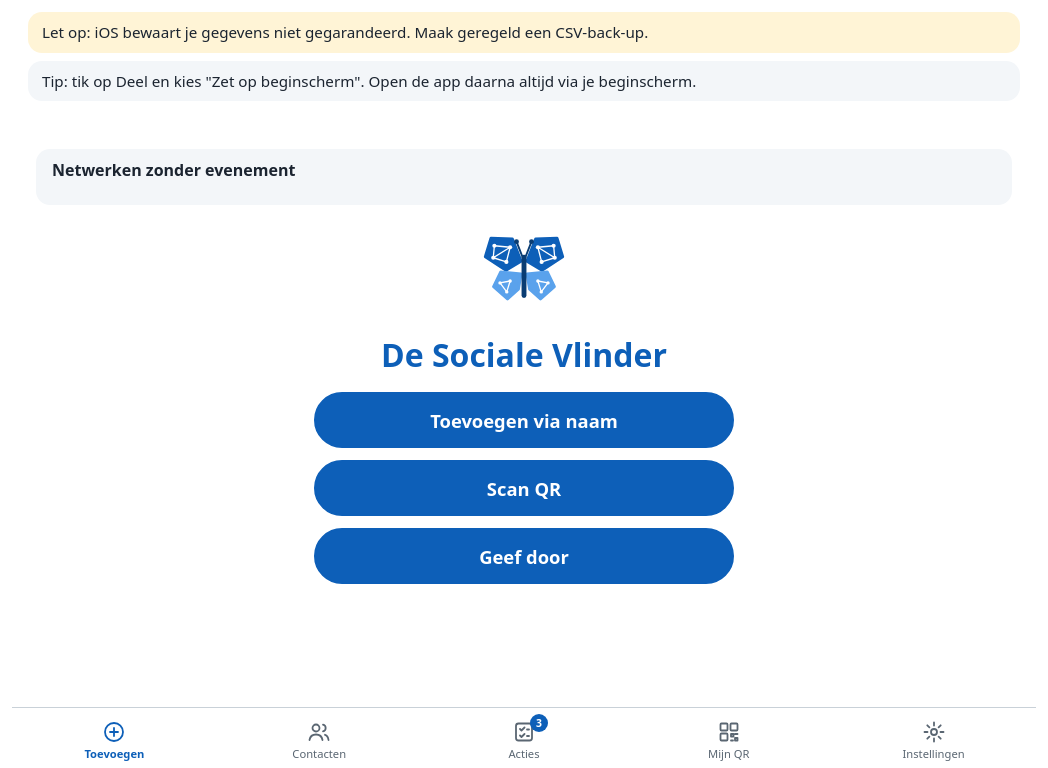
Test: The butterfly after adding a contact (User Story 3, M7) › does not fly for a note written later on the Actions tab (FR-017)
This screenshot has width=1048, height=768.
Click the button "3 Acties" at [524, 740], box [422, 712, 626, 767]
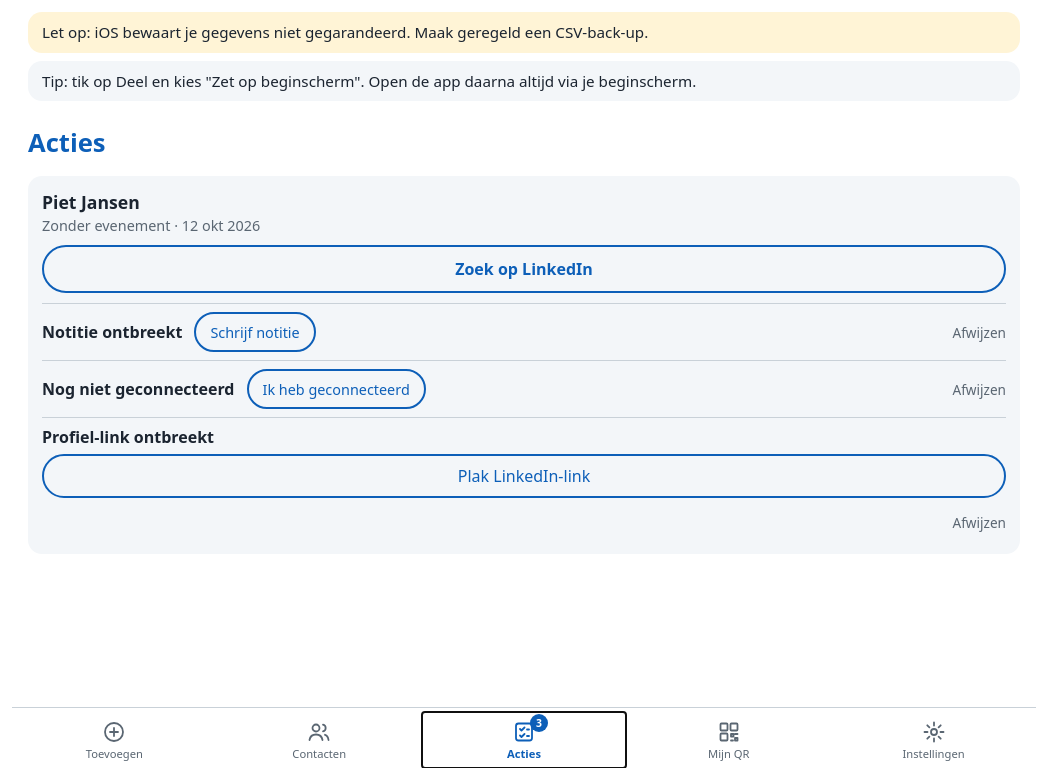
Click the button "Schrijf notitie" at [255, 332], box [194, 312, 316, 352]
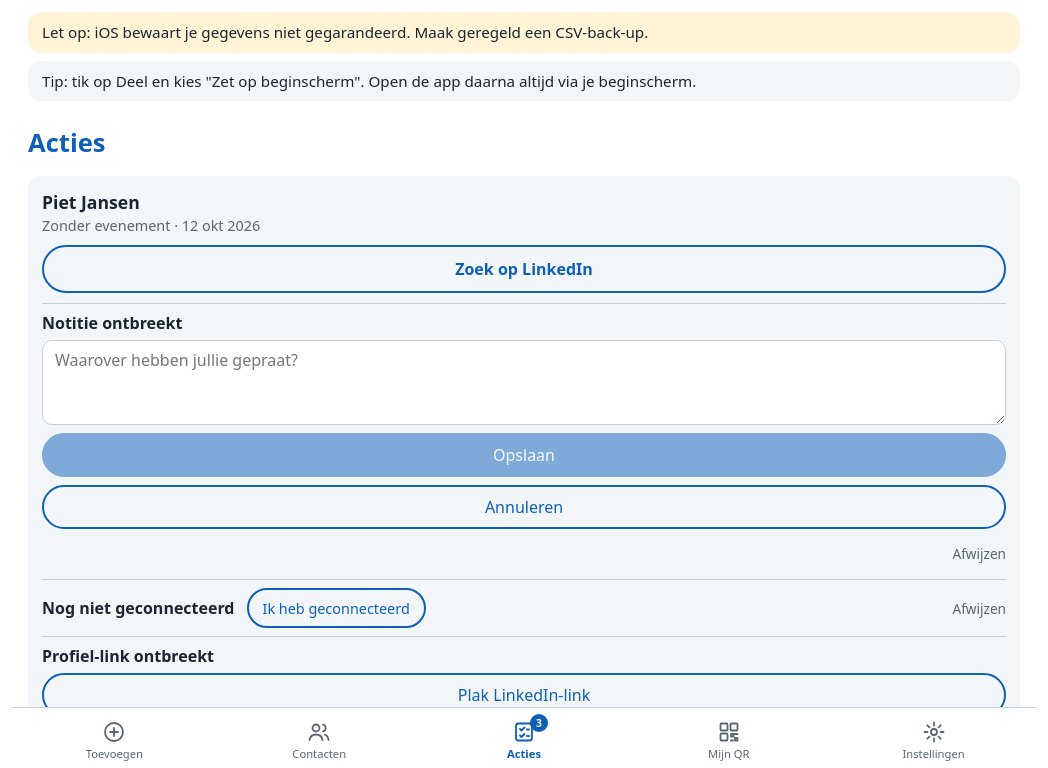
Type "Talked about Kotlin" into the text box at [524, 383], box [42, 340, 1006, 425]
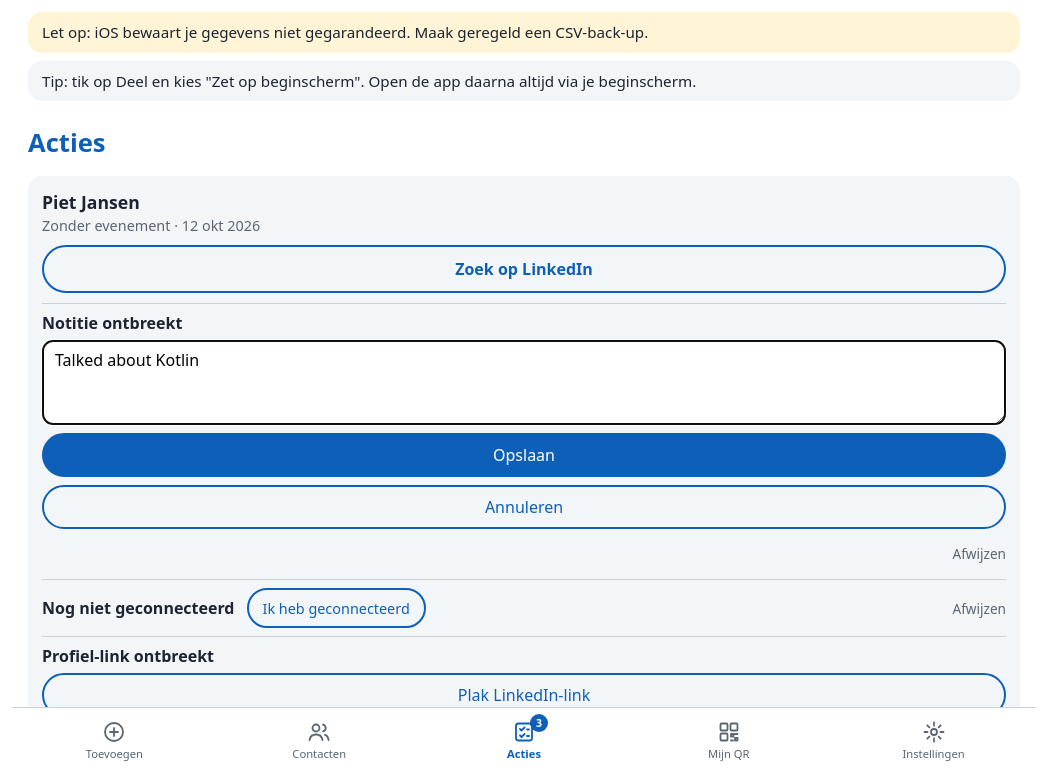
Click the button "Opslaan" at [524, 455], box [42, 433, 1006, 477]
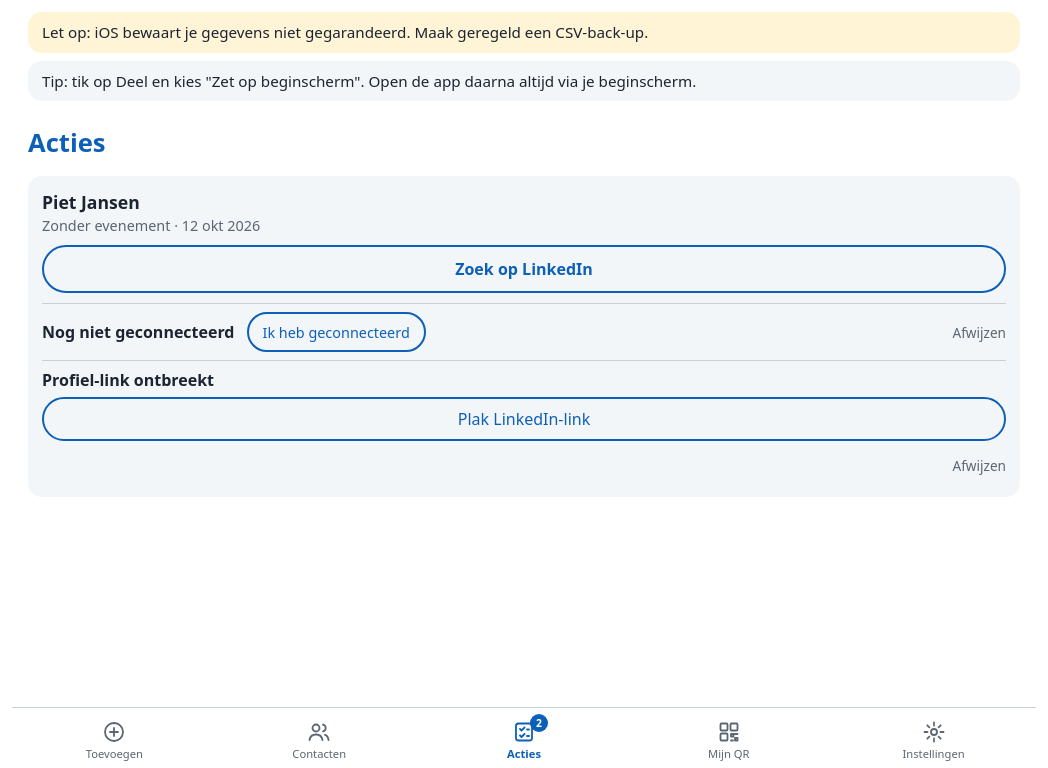
Check: the element "Piet Jansen" no longer shows "Notitie ontbreekt", box [28, 176, 1020, 497]
Click the button "Toevoegen" at [114, 740], box [12, 712, 217, 767]
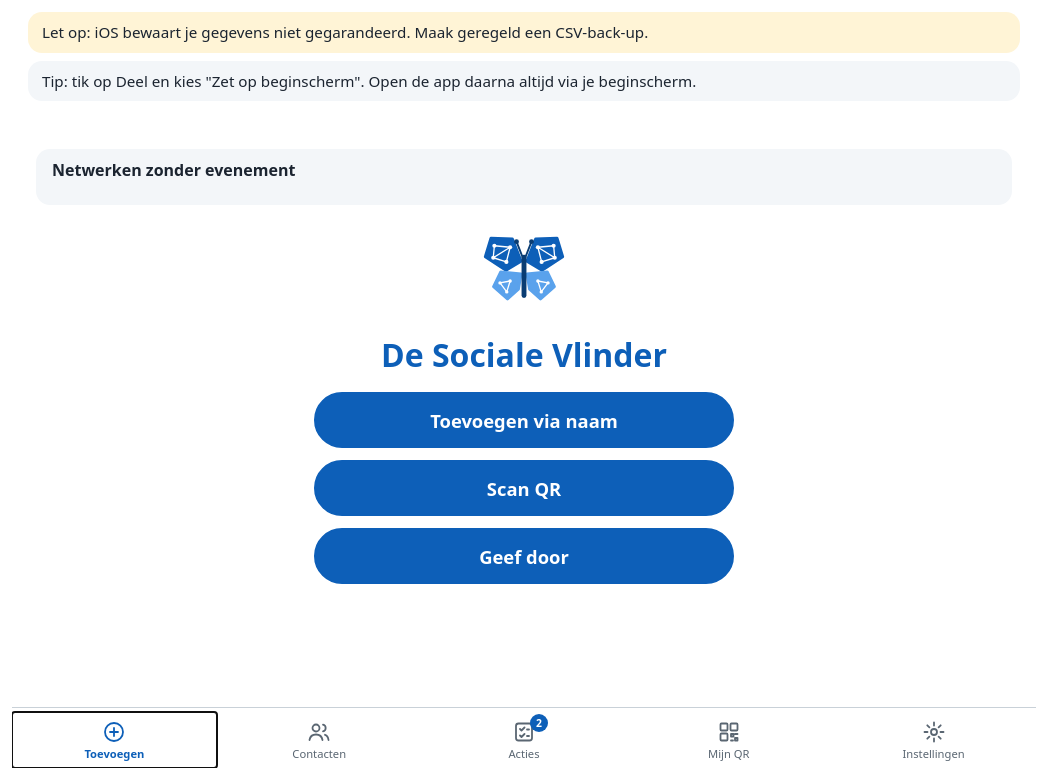
Check: the button "Toevoegen via naam" is shown, box [314, 392, 734, 448]
